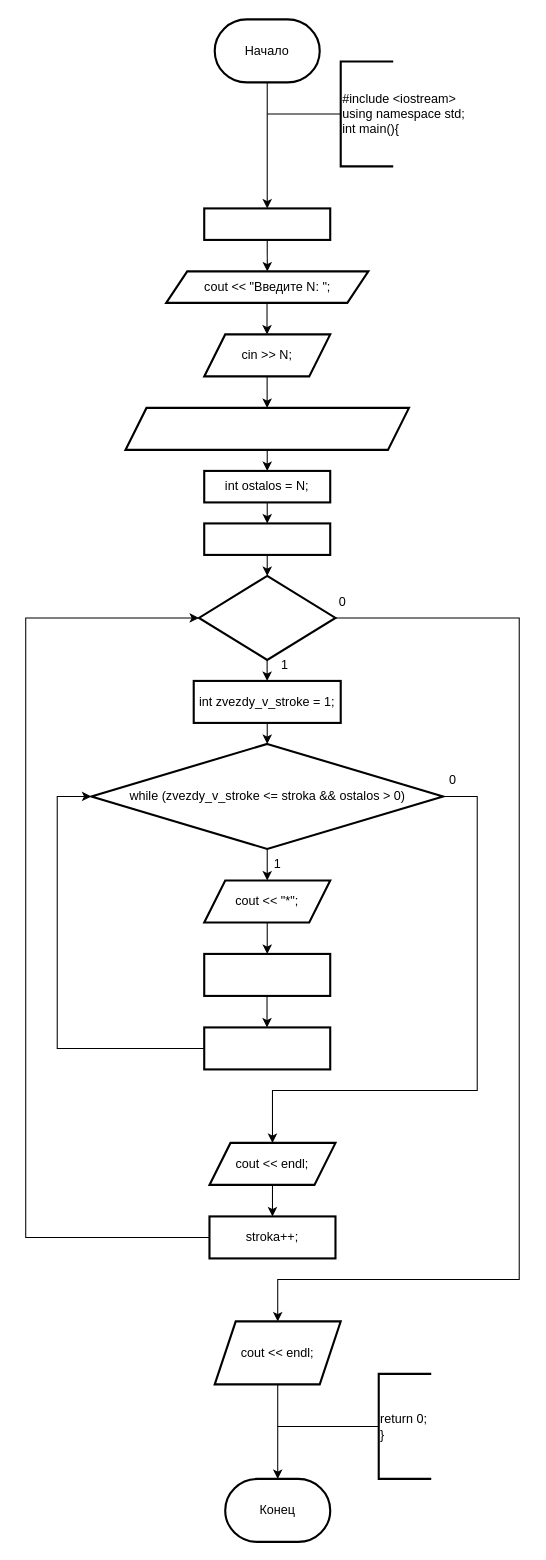
Some shapes in this 546 by 1560 pixel diagram are drawn without their labels. Here are the shapes that lost their labels. From the top down, the centre of each, then its label:
point 267,223: int N;
point 267,428: cout << "1. " << N << " звездочек:" << endl;
point 267,538: int stroka = 1;
point 266,617: while (ostalos > 0)
point 267,974: zvezdy_v_stroke++;
point 267,1048: ostalos--;
